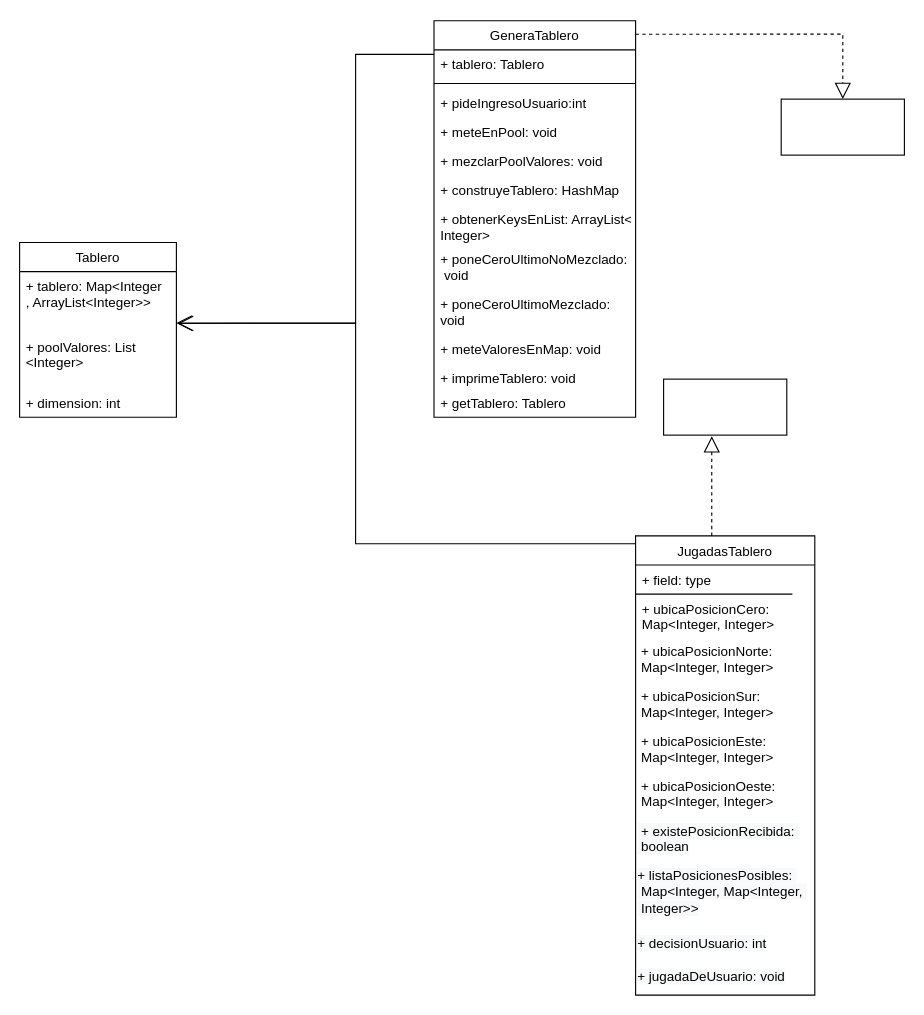
This 924x1015 diagram has some shape labels left out. Here are the shapes that lost their labels. From the top down, the centre of each, then its label:
point 842,126: «interface» IGeneraTablero
point 724,406: «interface» IJugadasTablero
